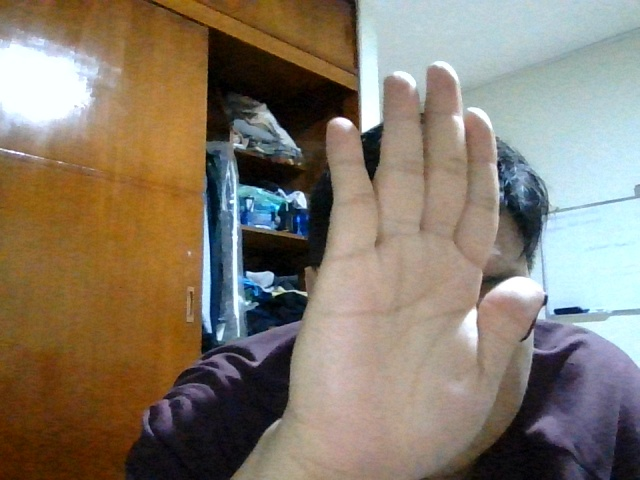hola: (293, 61, 542, 470)
